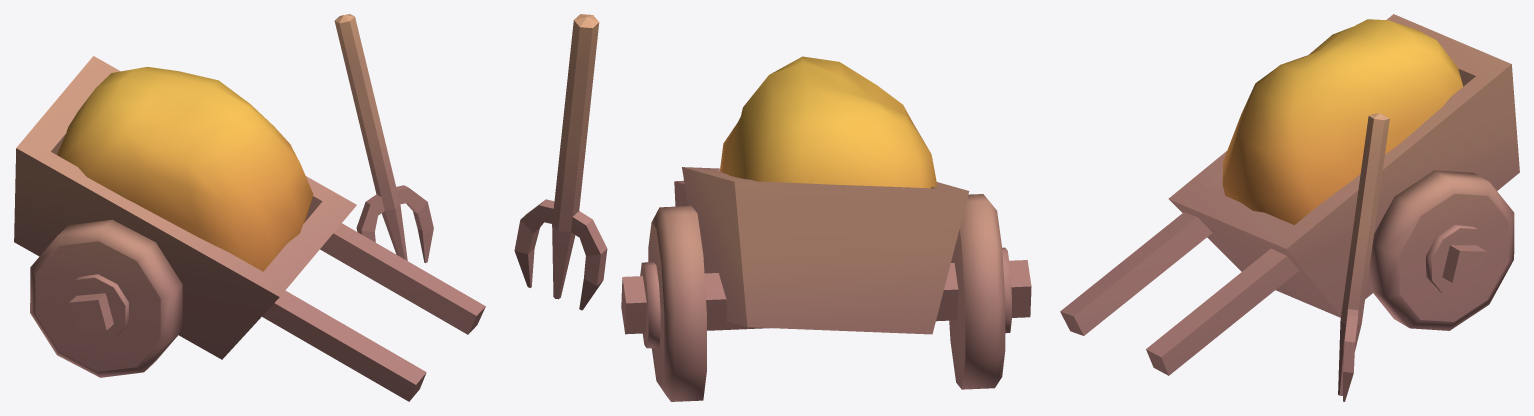
Rendered from HayCart.fbx.
The picture shows the model from 3 angles, left to right: view 1: azimuth 30°, elevation 25°; view 2: azimuth 150°, elevation 25°; view 3: azimuth 270°, elevation 25°; orthographic projection. The views are drawn at different scales.
Visible parts, largest first — view 1: HayCart; view 2: HayCart; view 3: HayCart.
Part boxes in pixels (left/top/right/bottom): HayCart: left=14, top=14, right=485, bottom=401; HayCart: left=514, top=14, right=1031, bottom=401; HayCart: left=1060, top=14, right=1519, bottom=401.
Bounding box in the file's own units: 8.4 × 5.26 × 8.21.
